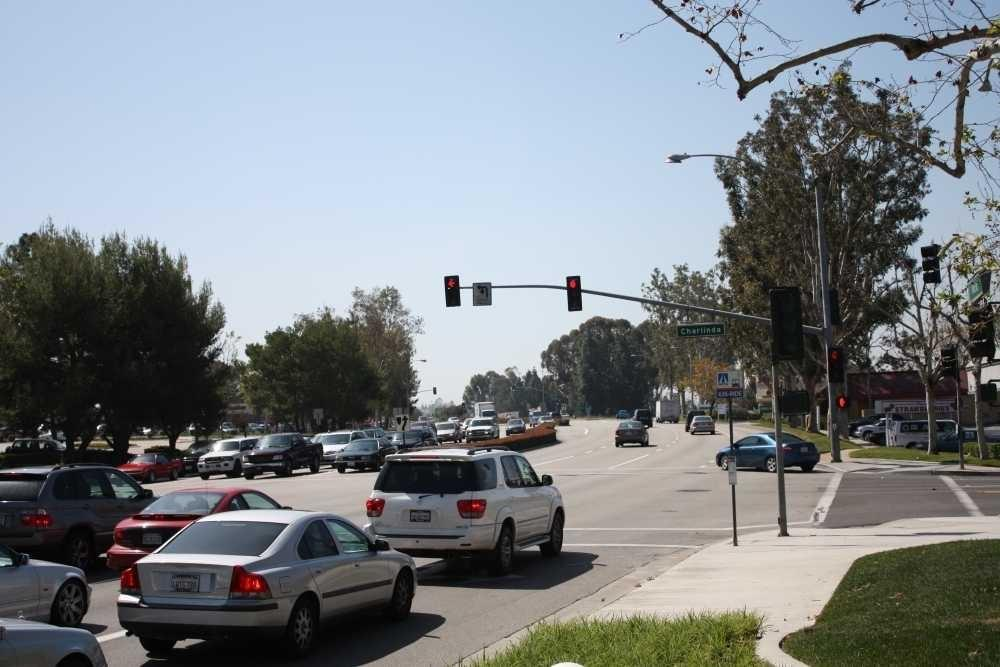red: (565, 273, 583, 315), (441, 275, 462, 310)
